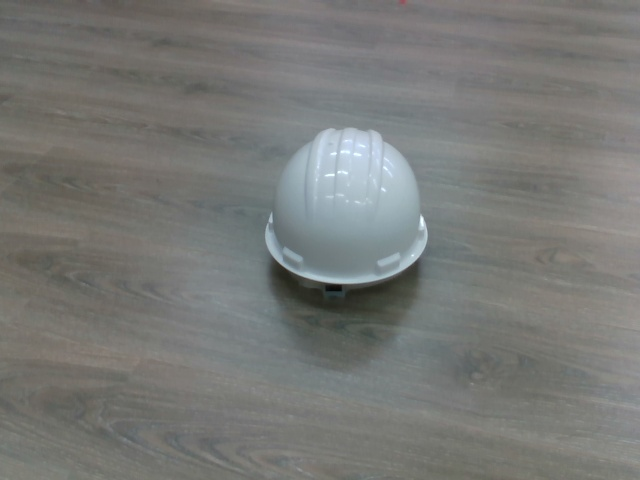helmet: (263, 124, 432, 295)
